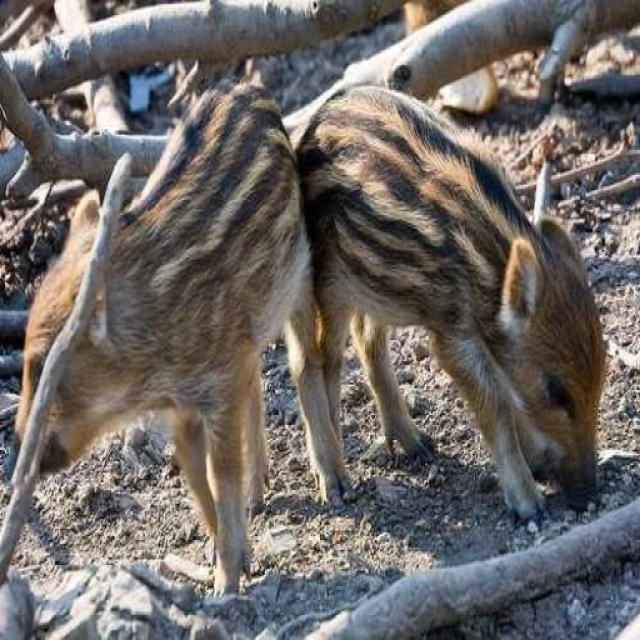pig: (292, 58, 622, 534), (0, 64, 309, 530)
